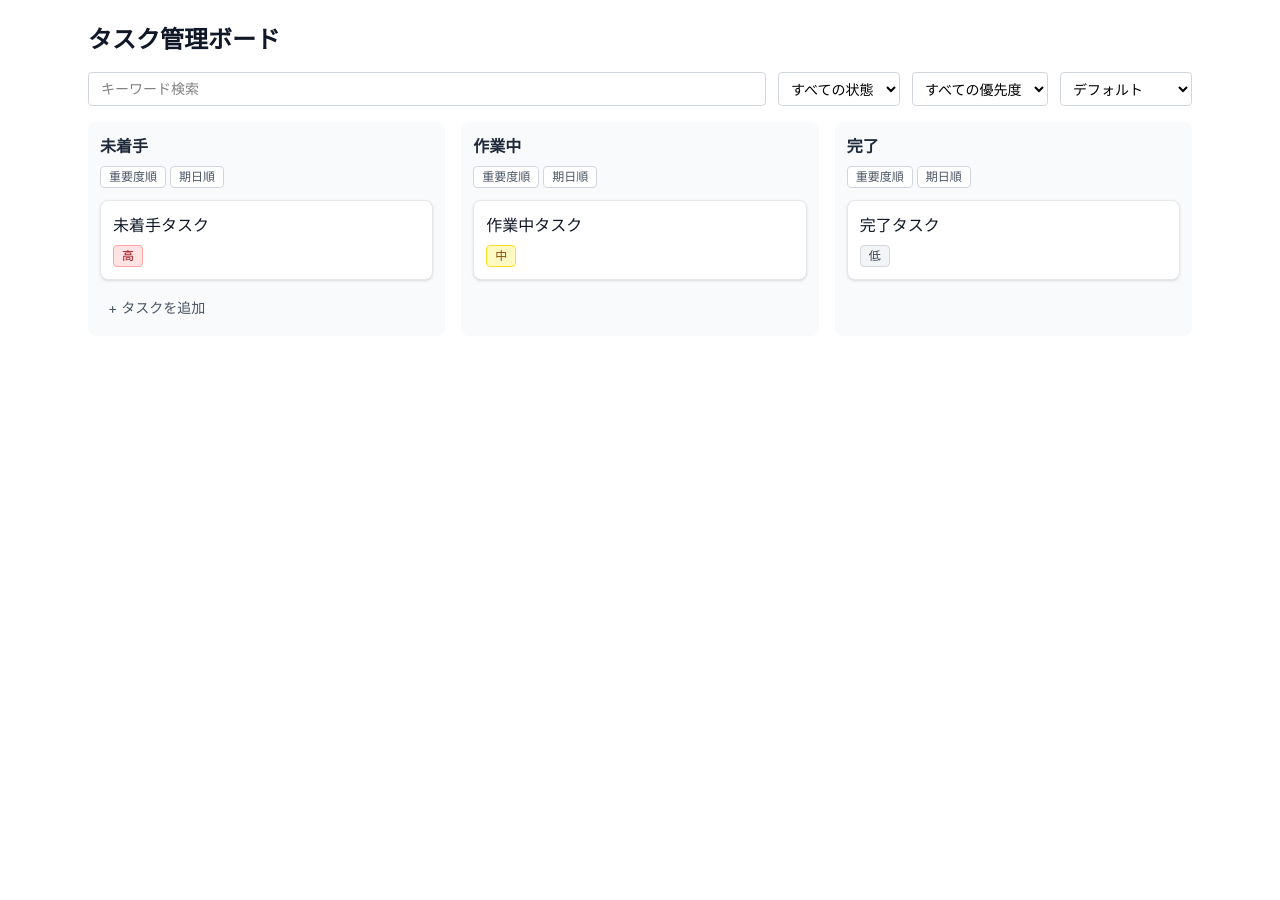
Board › opens the add modal from the not-started column, then refetches after saving
Expected: the text "未着手タスク" is shown, [113, 215, 209, 235]
Step 1. Click the button "+ タスクを追加" → x=157, y=308, box [100, 292, 433, 324]
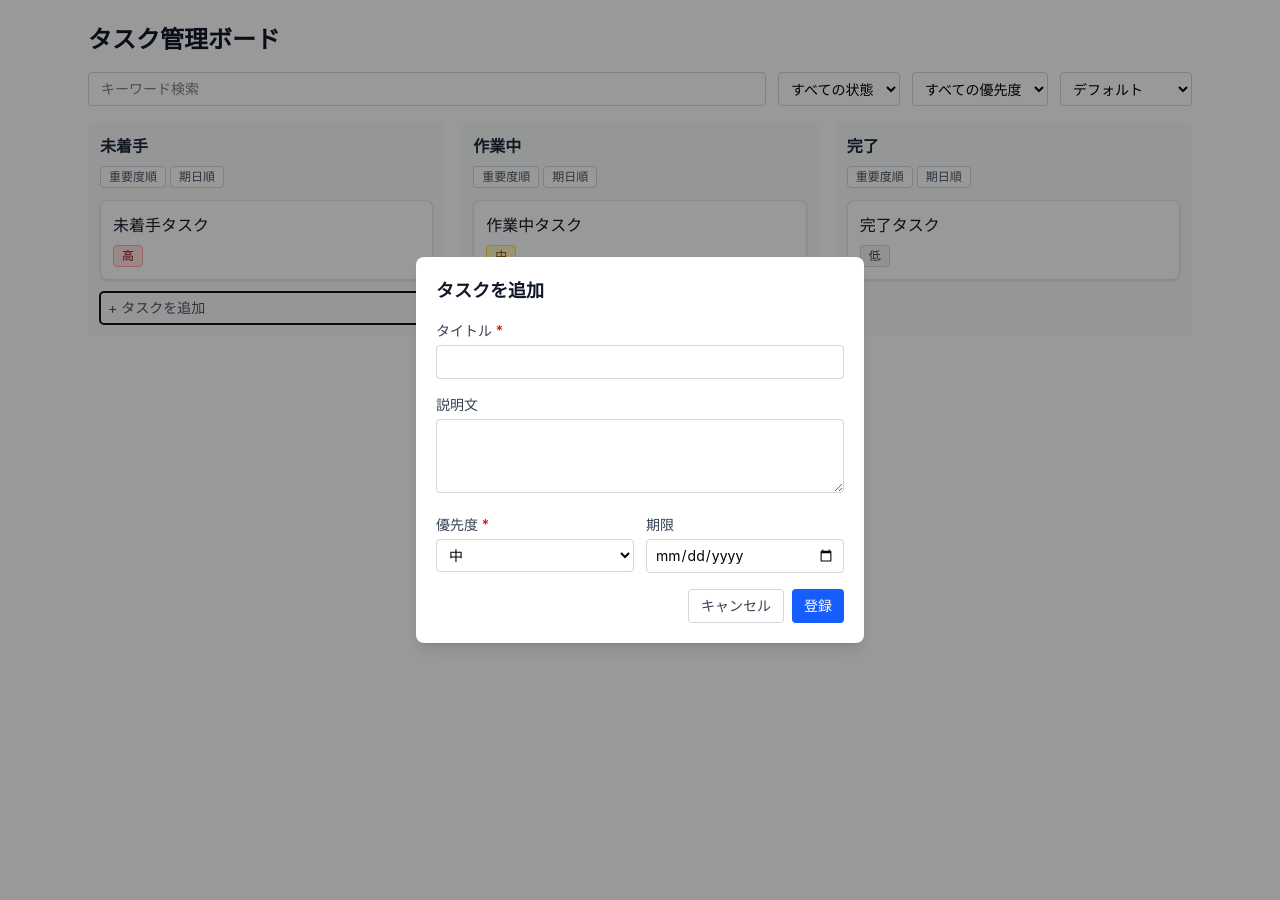
Step 2. Type "追加するタスク" into the field labelled "タイトル *" → x=640, y=362, box [436, 345, 844, 379]
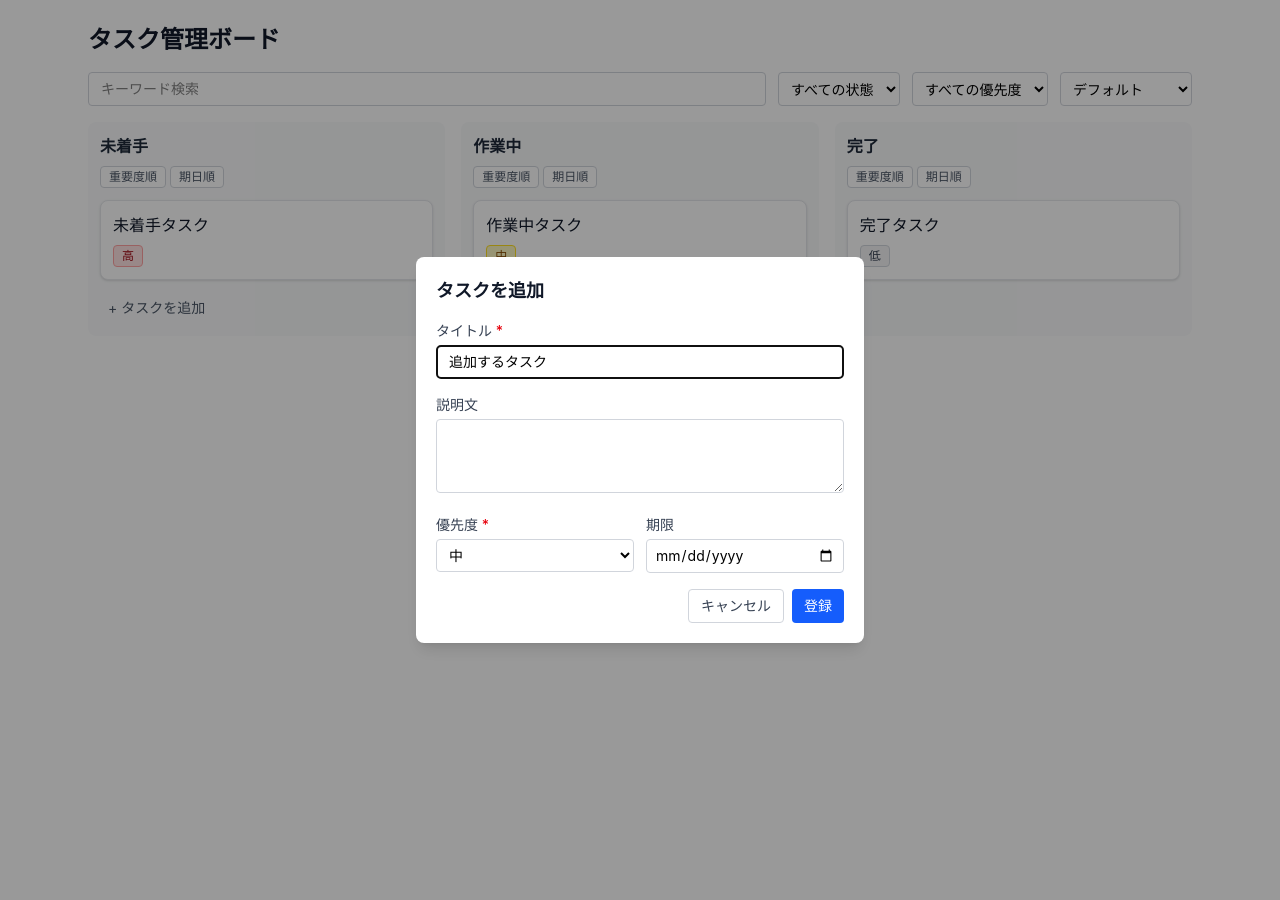
Step 3. Click the button "登録" → x=818, y=606, box [792, 589, 844, 623]
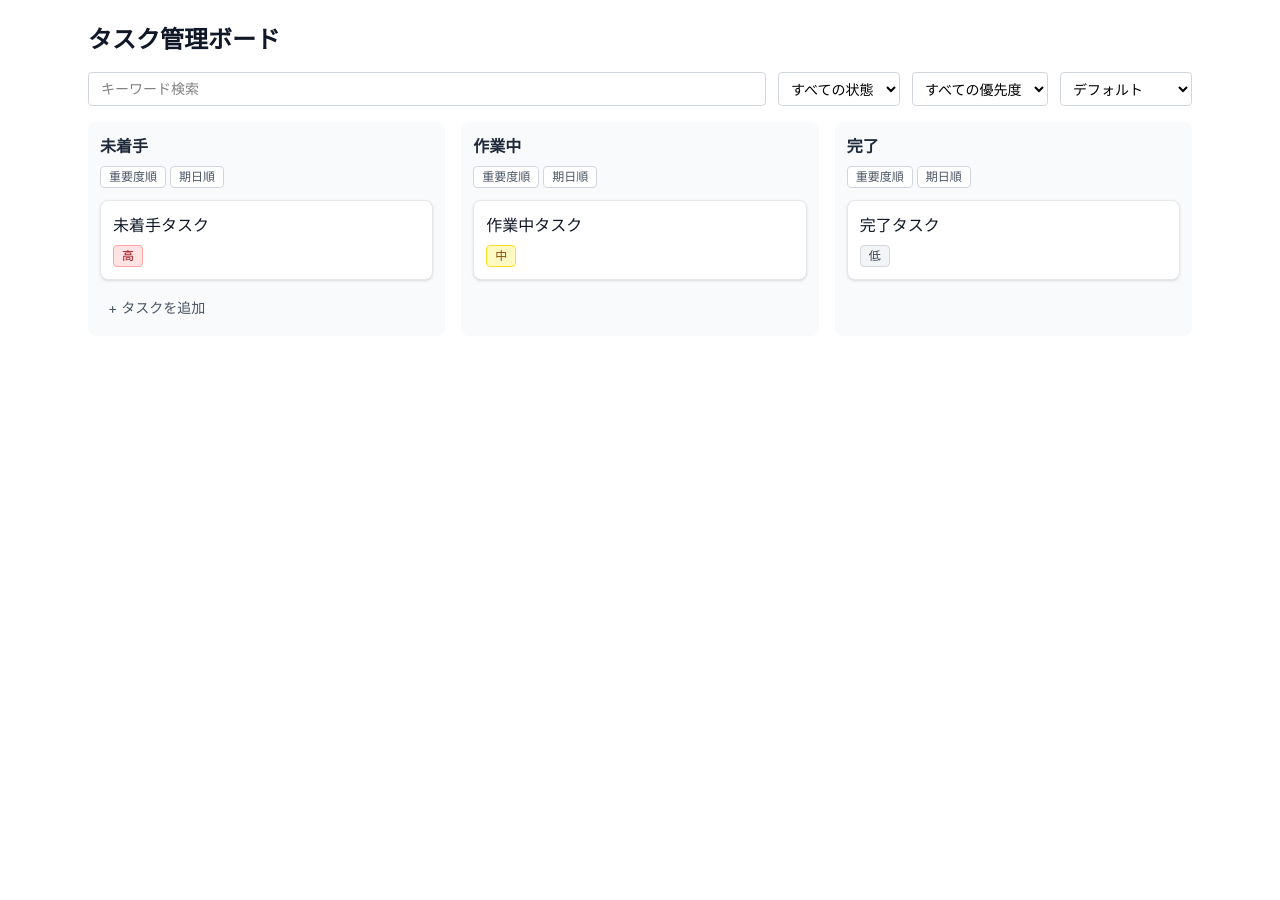
Result: the dialog is gone
